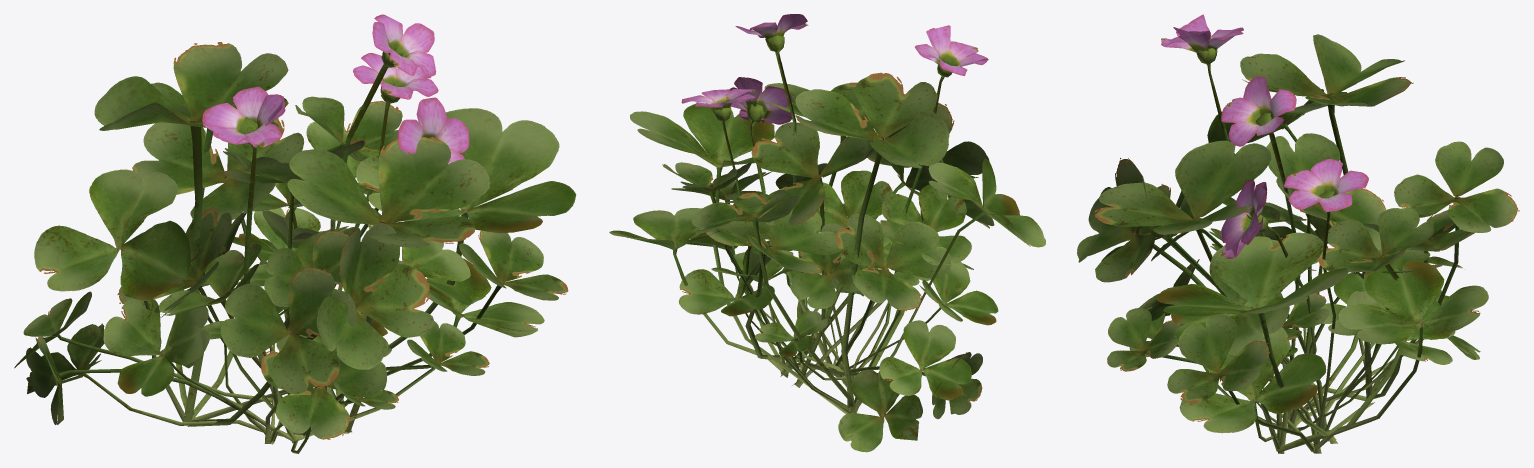
File: shrub_sorrel_01.glb
3 renders of one model, left to right at view 1: azimuth 30°, elevation 25°; view 2: azimuth 150°, elevation 25°; view 3: azimuth 270°, elevation 25°, orthographic. The views are drawn at different scales.
Visible parts, largest first — view 1: shrub_sorrel_01_v1_near, shrub_sorrel_01_v3_near, shrub_sorrel_01_v1_far, shrub_sorrel_01_v0_near, shrub_sorrel_01_v0_far, shrub_sorrel_01_v3_far, shrub_sorrel_01_v4_near, shrub_sorrel_01_v2_far, shrub_sorrel_01_v4_far, shrub_sorrel_01_v5_far, shrub_sorrel_01_v5_near, shrub_sorrel_01_v2_near; view 2: shrub_sorrel_01_v3_near, shrub_sorrel_01_v1_far, shrub_sorrel_01_v3_far, shrub_sorrel_01_v1_near, shrub_sorrel_01_v4_near, shrub_sorrel_01_v4_far, shrub_sorrel_01_v2_far, shrub_sorrel_01_v0_far, shrub_sorrel_01_v0_near, shrub_sorrel_01_v5_far, shrub_sorrel_01_v5_near, shrub_sorrel_01_v2_near; view 3: shrub_sorrel_01_v1_near, shrub_sorrel_01_v1_far, shrub_sorrel_01_v3_near, shrub_sorrel_01_v4_near, shrub_sorrel_01_v0_far, shrub_sorrel_01_v4_far, shrub_sorrel_01_v0_near, shrub_sorrel_01_v3_far, shrub_sorrel_01_v2_far, shrub_sorrel_01_v5_far, shrub_sorrel_01_v5_near.
Boxes of the visible parts, x1,y1,x2,y2 form: shrub_sorrel_01_v1_near: (36,51,559,421); shrub_sorrel_01_v3_near: (26,87,537,453); shrub_sorrel_01_v1_far: (34,42,576,426); shrub_sorrel_01_v0_near: (143,20,489,432); shrub_sorrel_01_v0_far: (132,14,489,433); shrub_sorrel_01_v3_far: (27,86,544,443); shrub_sorrel_01_v4_near: (16,53,557,406); shrub_sorrel_01_v2_far: (158,178,472,394); shrub_sorrel_01_v4_far: (14,53,568,400); shrub_sorrel_01_v5_far: (199,208,401,444); shrub_sorrel_01_v5_near: (199,212,393,443); shrub_sorrel_01_v2_near: (207,183,435,398); shrub_sorrel_01_v3_near: (679,28,992,452); shrub_sorrel_01_v1_far: (630,72,1045,413); shrub_sorrel_01_v3_far: (678,25,998,450); shrub_sorrel_01_v1_near: (630,82,1030,411); shrub_sorrel_01_v4_near: (610,89,960,400); shrub_sorrel_01_v4_far: (609,89,971,399); shrub_sorrel_01_v2_far: (706,137,971,387); shrub_sorrel_01_v0_far: (715,14,989,362); shrub_sorrel_01_v0_near: (719,17,994,362); shrub_sorrel_01_v5_far: (711,235,931,382); shrub_sorrel_01_v5_near: (712,234,921,372); shrub_sorrel_01_v2_near: (736,171,960,375); shrub_sorrel_01_v1_near: (1077,37,1515,436); shrub_sorrel_01_v1_far: (1078,34,1519,434); shrub_sorrel_01_v3_near: (1143,24,1479,441); shrub_sorrel_01_v4_near: (1107,159,1479,453); shrub_sorrel_01_v0_far: (1094,76,1475,452); shrub_sorrel_01_v4_far: (1107,158,1488,453); shrub_sorrel_01_v0_near: (1101,85,1454,453); shrub_sorrel_01_v3_far: (1139,14,1480,433); shrub_sorrel_01_v2_far: (1157,197,1443,443); shrub_sorrel_01_v5_far: (1129,243,1455,415); shrub_sorrel_01_v5_near: (1129,246,1443,360).
Size of the model in its own units: 0.0726 by 0.0563 by 0.059.
1 material, 1 textured.
